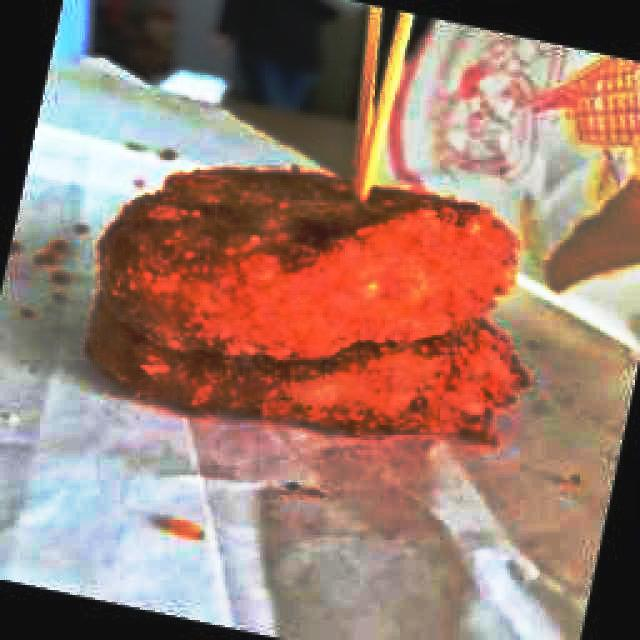Hashbrown: (95, 173, 517, 440), (110, 169, 516, 352), (93, 301, 523, 437)
